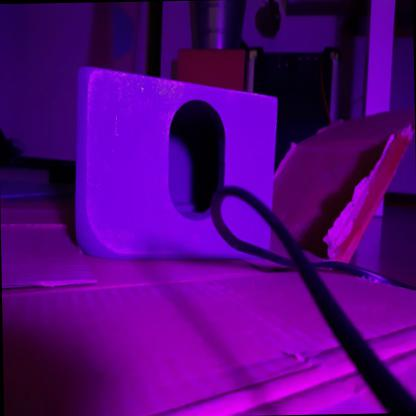CornerCasting: (73, 55, 272, 275)
